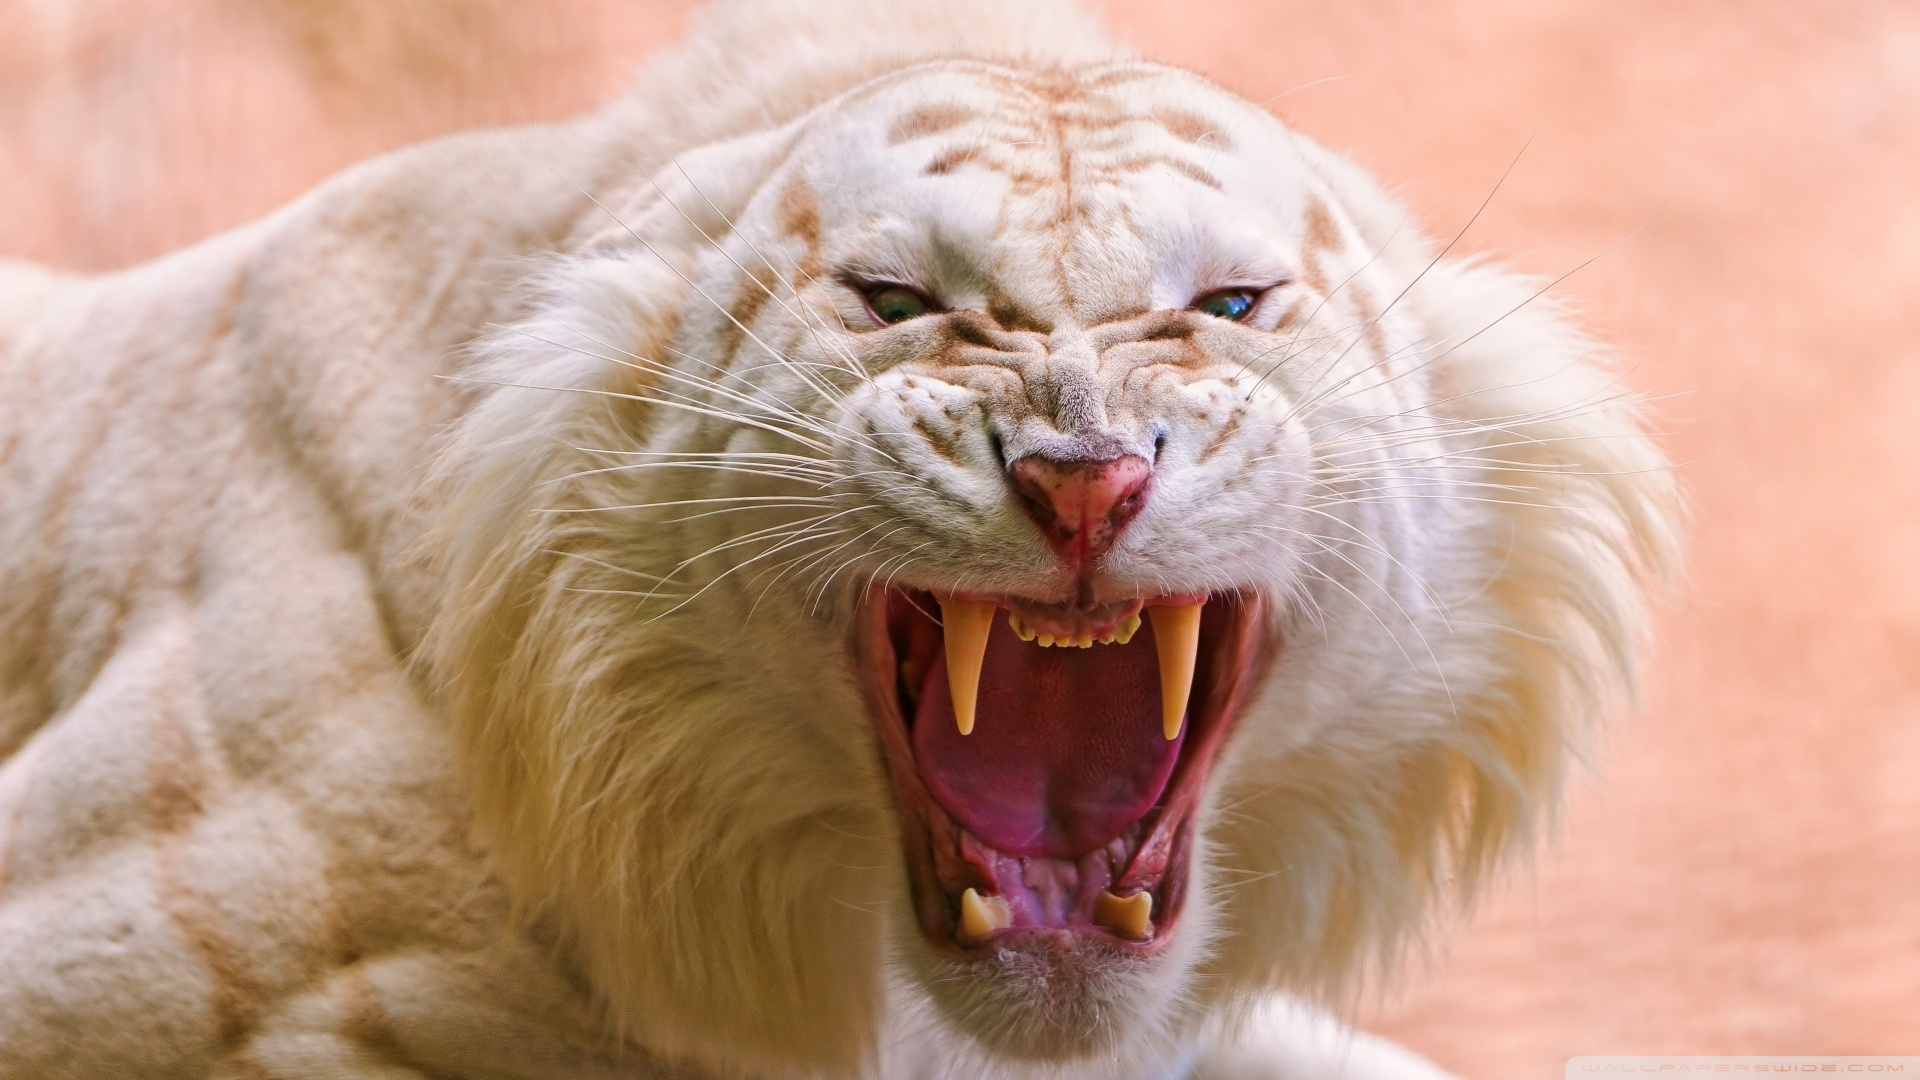tiger: (225, 71, 1665, 1062)
